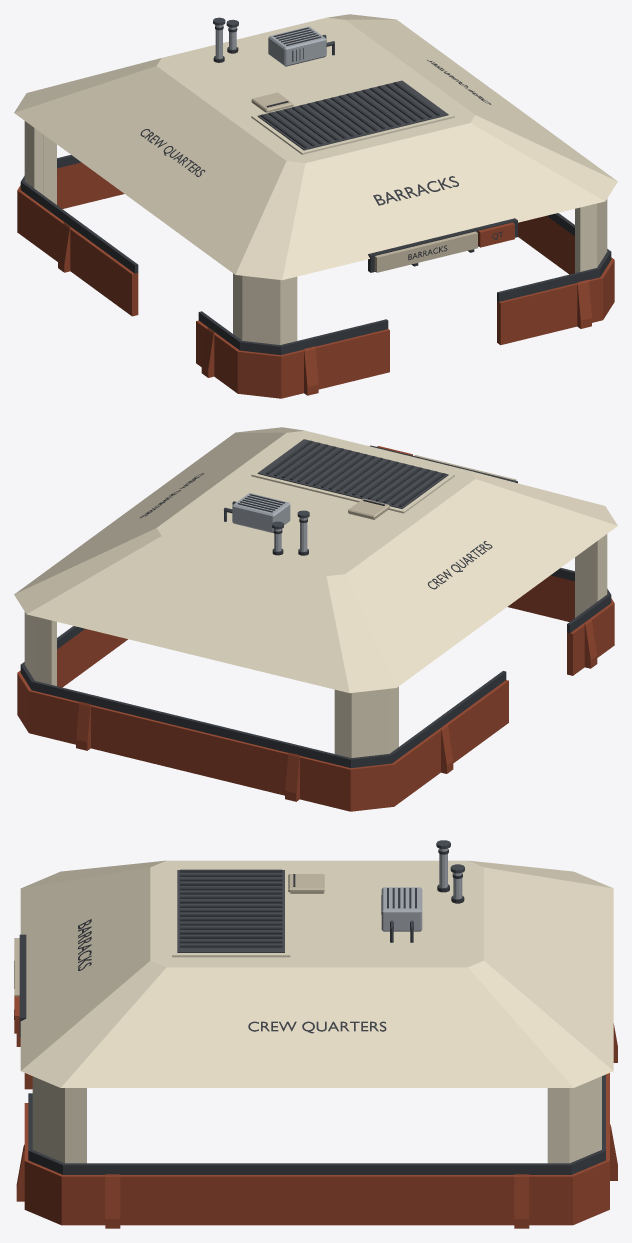
File: quartel-casca-v001.glb
3 views of the same model, one above another, from view 1: azimuth 30°, elevation 25°; view 2: azimuth 150°, elevation 25°; view 3: azimuth 270°, elevation 25° (orthographic). The views are drawn at different scales.
Visible parts, largest first — view 1: Building_Roof, Casca_Fixa, Casca_Placa, Telhado_Equipamentos; view 2: Building_Roof, Casca_Fixa, Telhado_Equipamentos; view 3: Building_Roof, Casca_Fixa, Telhado_Equipamentos, Casca_Placa, Texto_CREW QUARTERS.
Boxes of the visible parts, x1,y1,x2,y2 form: Building_Roof: (14,14,617,280); Casca_Fixa: (17,121,614,398); Casca_Placa: (368,218,517,272); Telhado_Equipamentos: (213,17,334,112); Building_Roof: (14,427,617,693); Casca_Fixa: (17,534,614,811); Telhado_Equipamentos: (224,493,389,555); Building_Roof: (20,860,613,1087); Casca_Fixa: (16,1023,617,1228); Telhado_Equipamentos: (288,840,464,942); Casca_Placa: (14,934,26,1037); Texto_CREW QUARTERS: (248,1021,386,1033).
Bounding box in the file's own units: 9.68 × 5.16 × 11.23.
Materials: 2 (2 with a texture image).
